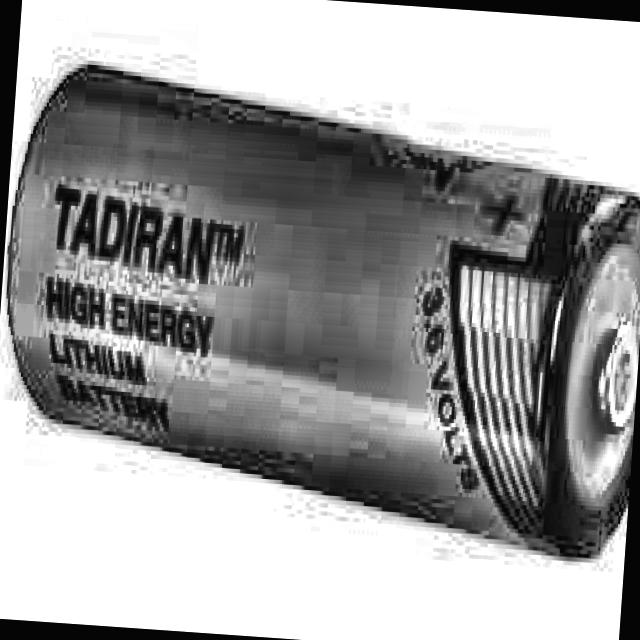Battery: (0, 64, 640, 552)
